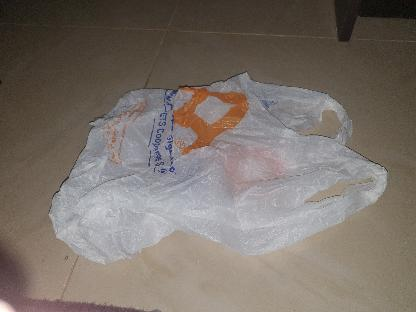Plastic Bag: (45, 65, 393, 272)
